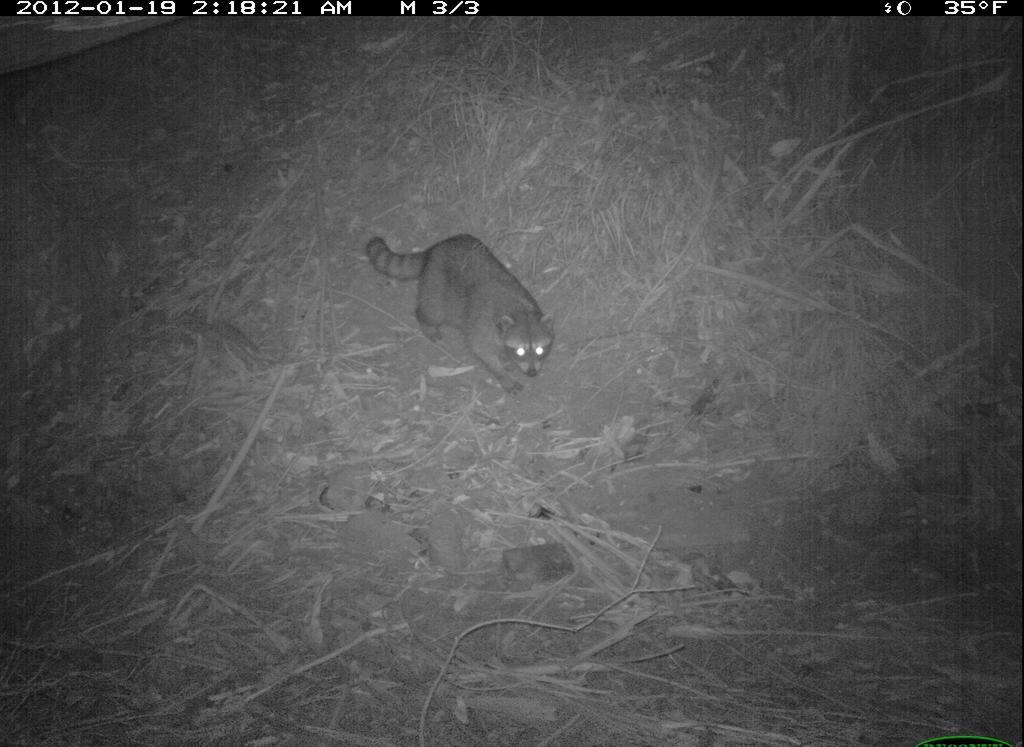raccoon: (353, 207, 566, 399)
